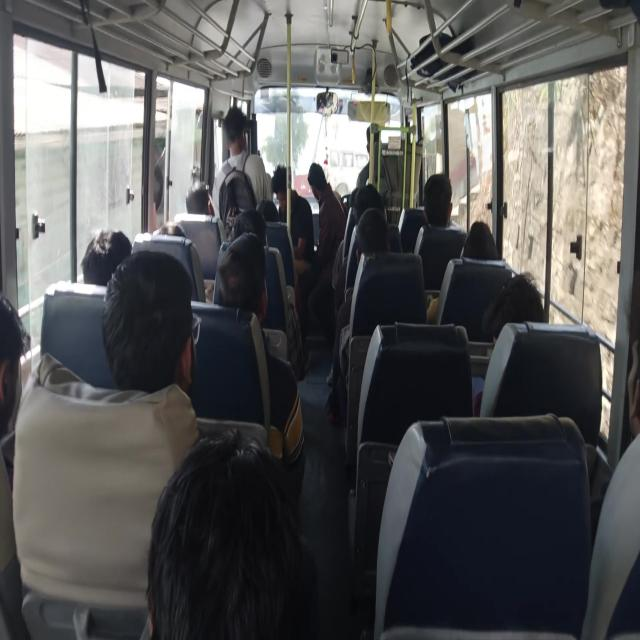person: (140, 463, 312, 640), (116, 258, 215, 392), (0, 314, 41, 486), (349, 215, 399, 297), (220, 242, 276, 309), (77, 228, 123, 282), (420, 169, 456, 225), (492, 284, 529, 333), (356, 182, 389, 236), (184, 177, 217, 228), (231, 208, 271, 250), (462, 215, 496, 264), (242, 186, 286, 223), (158, 213, 192, 256), (273, 167, 289, 225), (225, 101, 245, 138), (311, 159, 333, 191), (184, 168, 204, 198)
